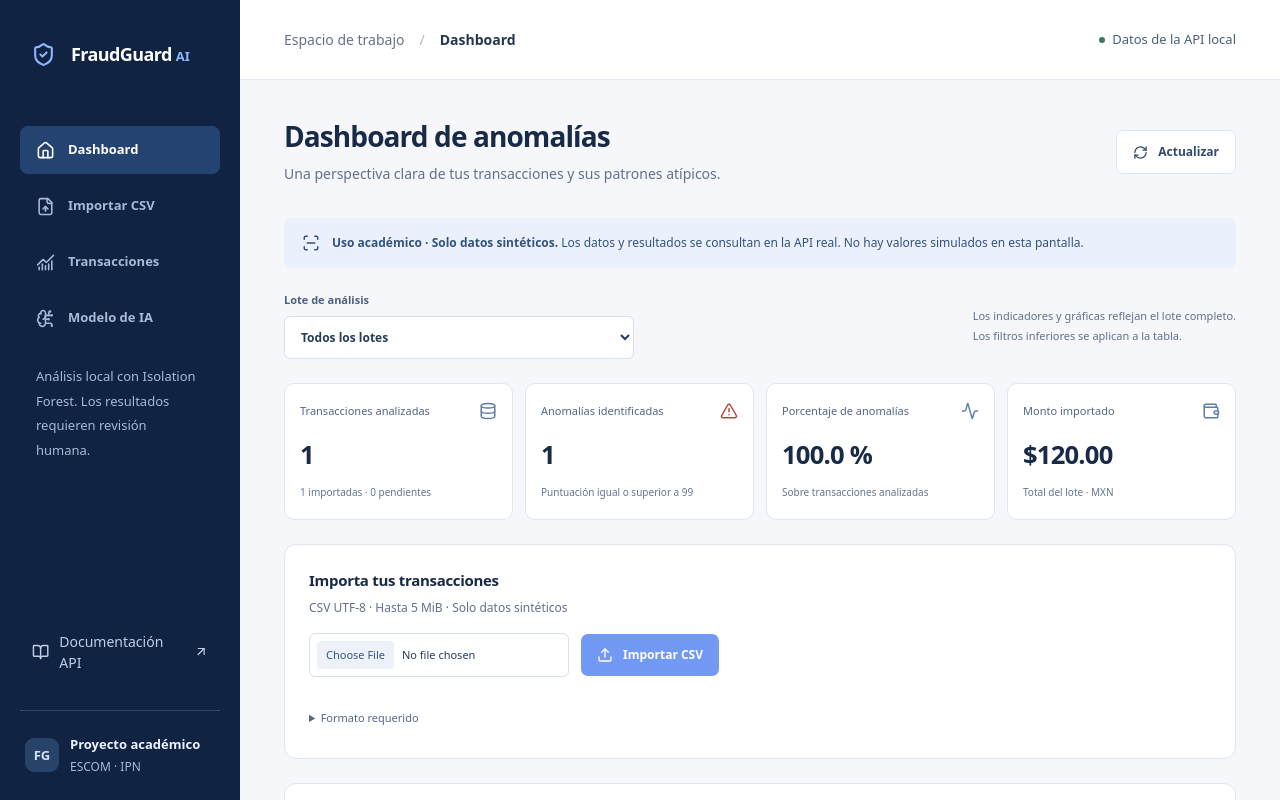
Test: Dashboard conectado › regresa a la primera página cuando el análisis reduce los resultados filtrados
Select "#1 · synthetic.csv (1)" in the dropdown labelled "Lote de análisis". click: (459, 338)
box: [284,316,634,359]
(page scrolled)
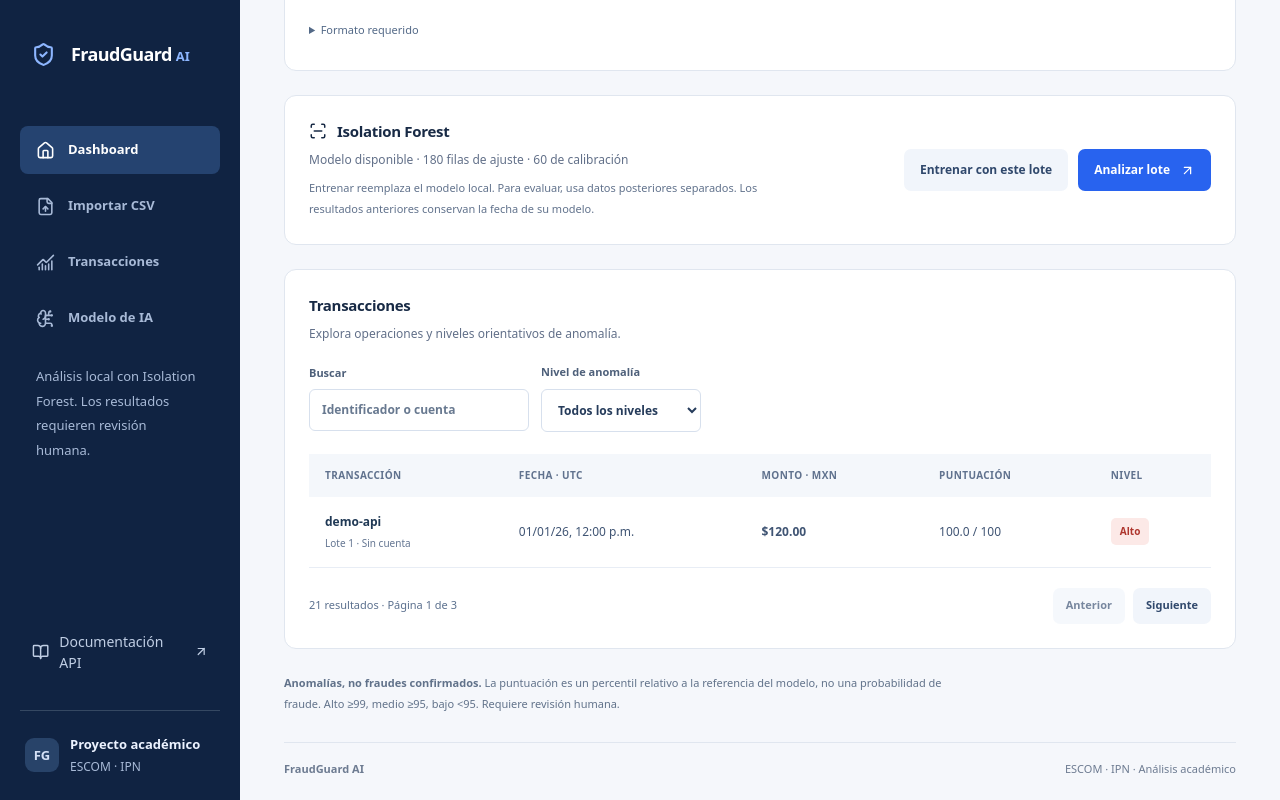
Expected: the text "demo-api" is shown, [325,513,381,530]
Select "Sin analizar" in the dropdown labelled "Nivel de anomalía". click: (621, 410)
box: [541,389,701,432]
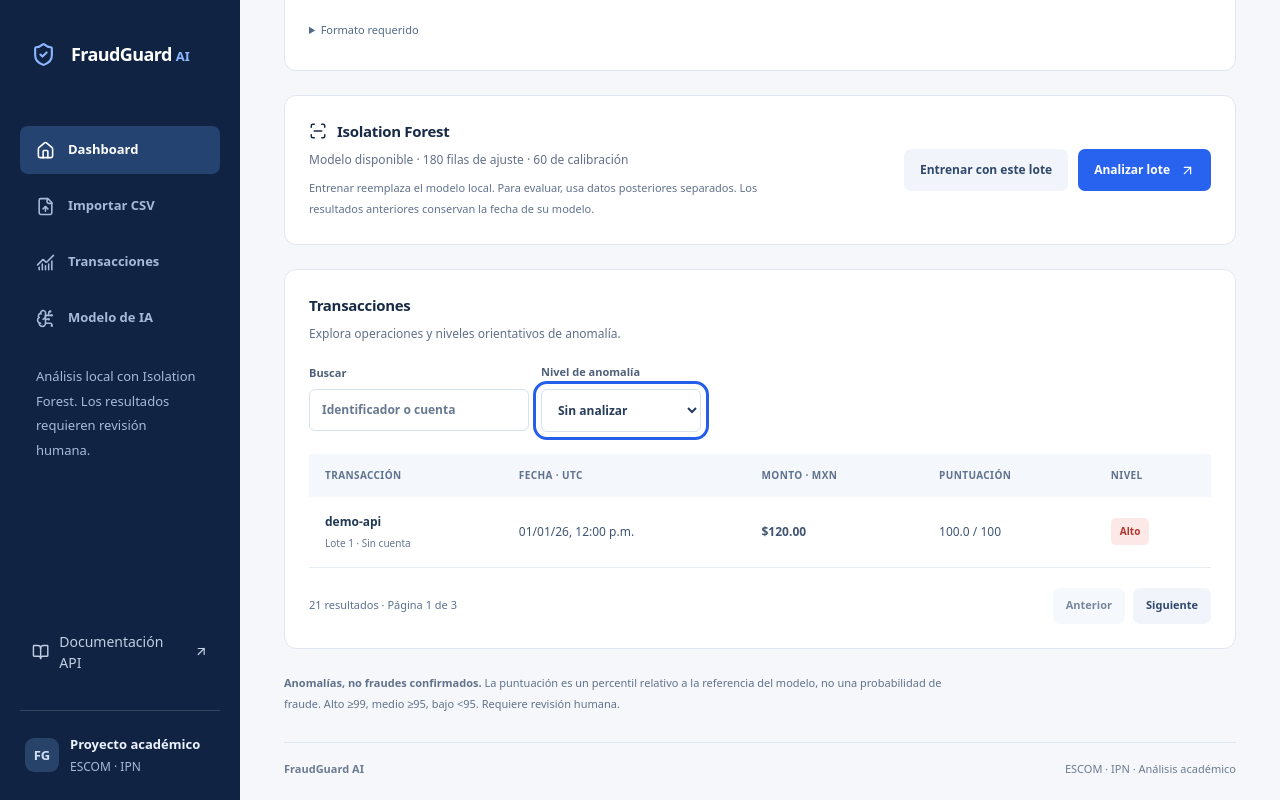
Expected: the text "demo-api" is shown, [325,513,381,530]
Click the button "Siguiente". click: (1172, 606)
box: [1133,588,1211,624]
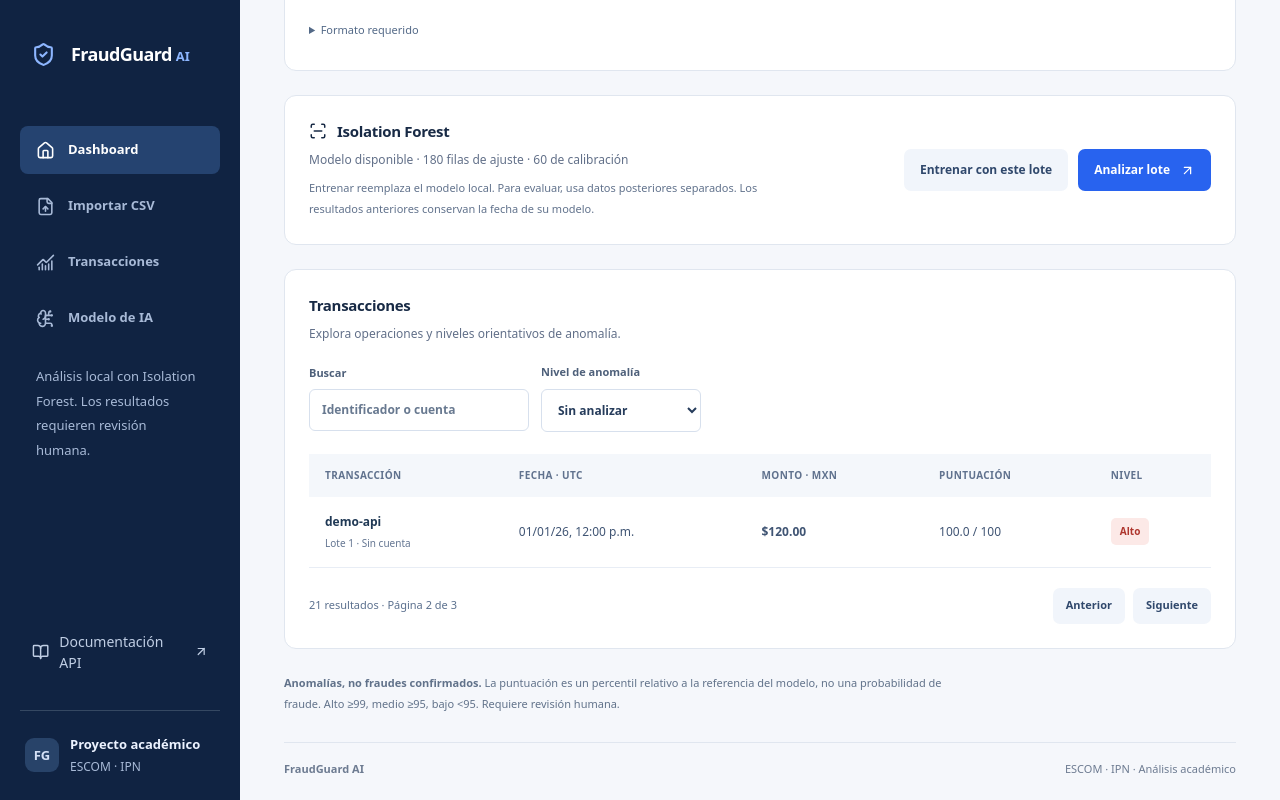
Expected: the text "21 resultados · Página 2 de 3" is shown, [309,597,457,614]
Click the button "Analizar lote". click: (1145, 170)
box: [1078,149,1211,191]
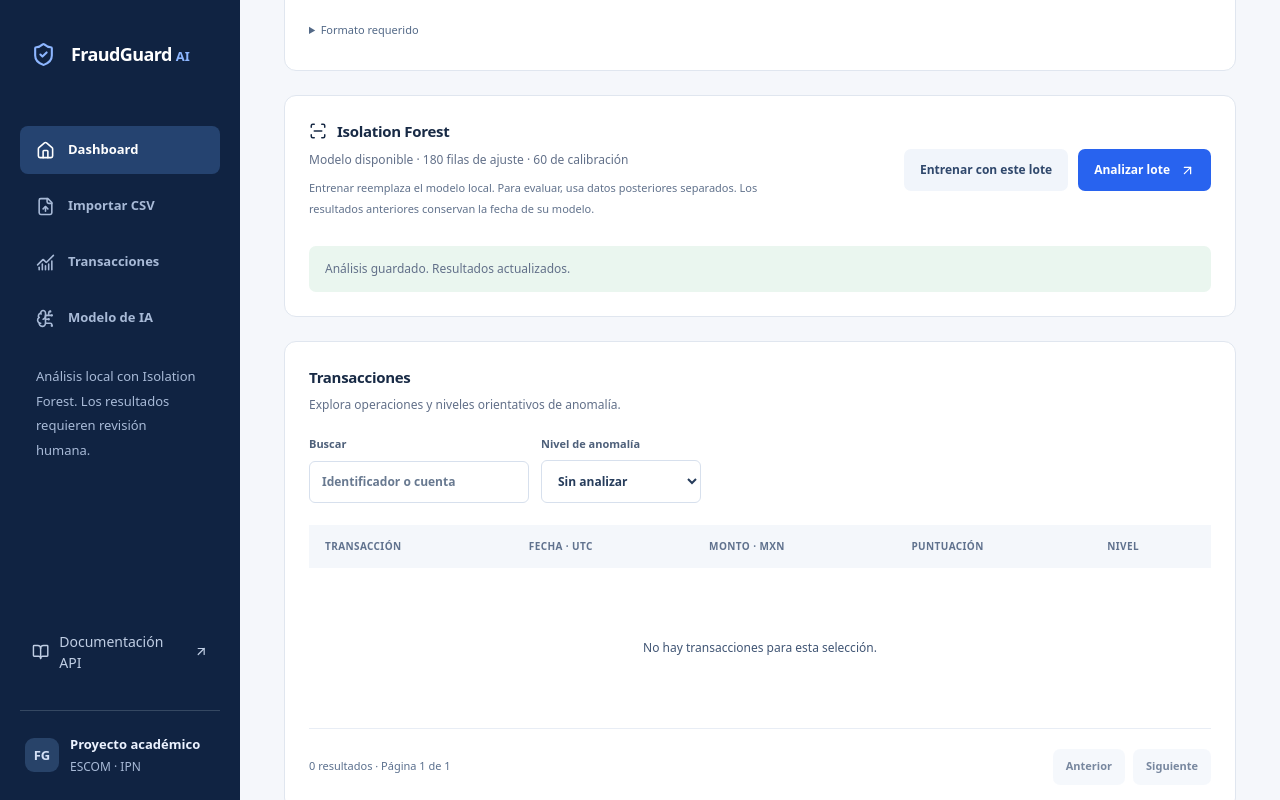
Expected: the text "0 resultados · Página 1 de 1" is shown, [309,758,451,775]
